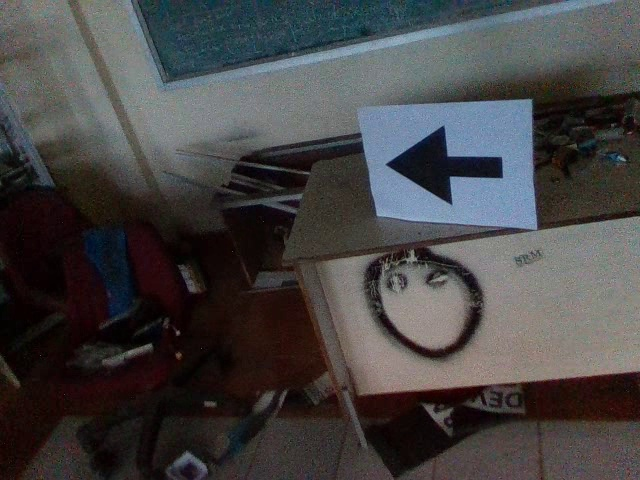Left: (381, 125, 514, 212)
